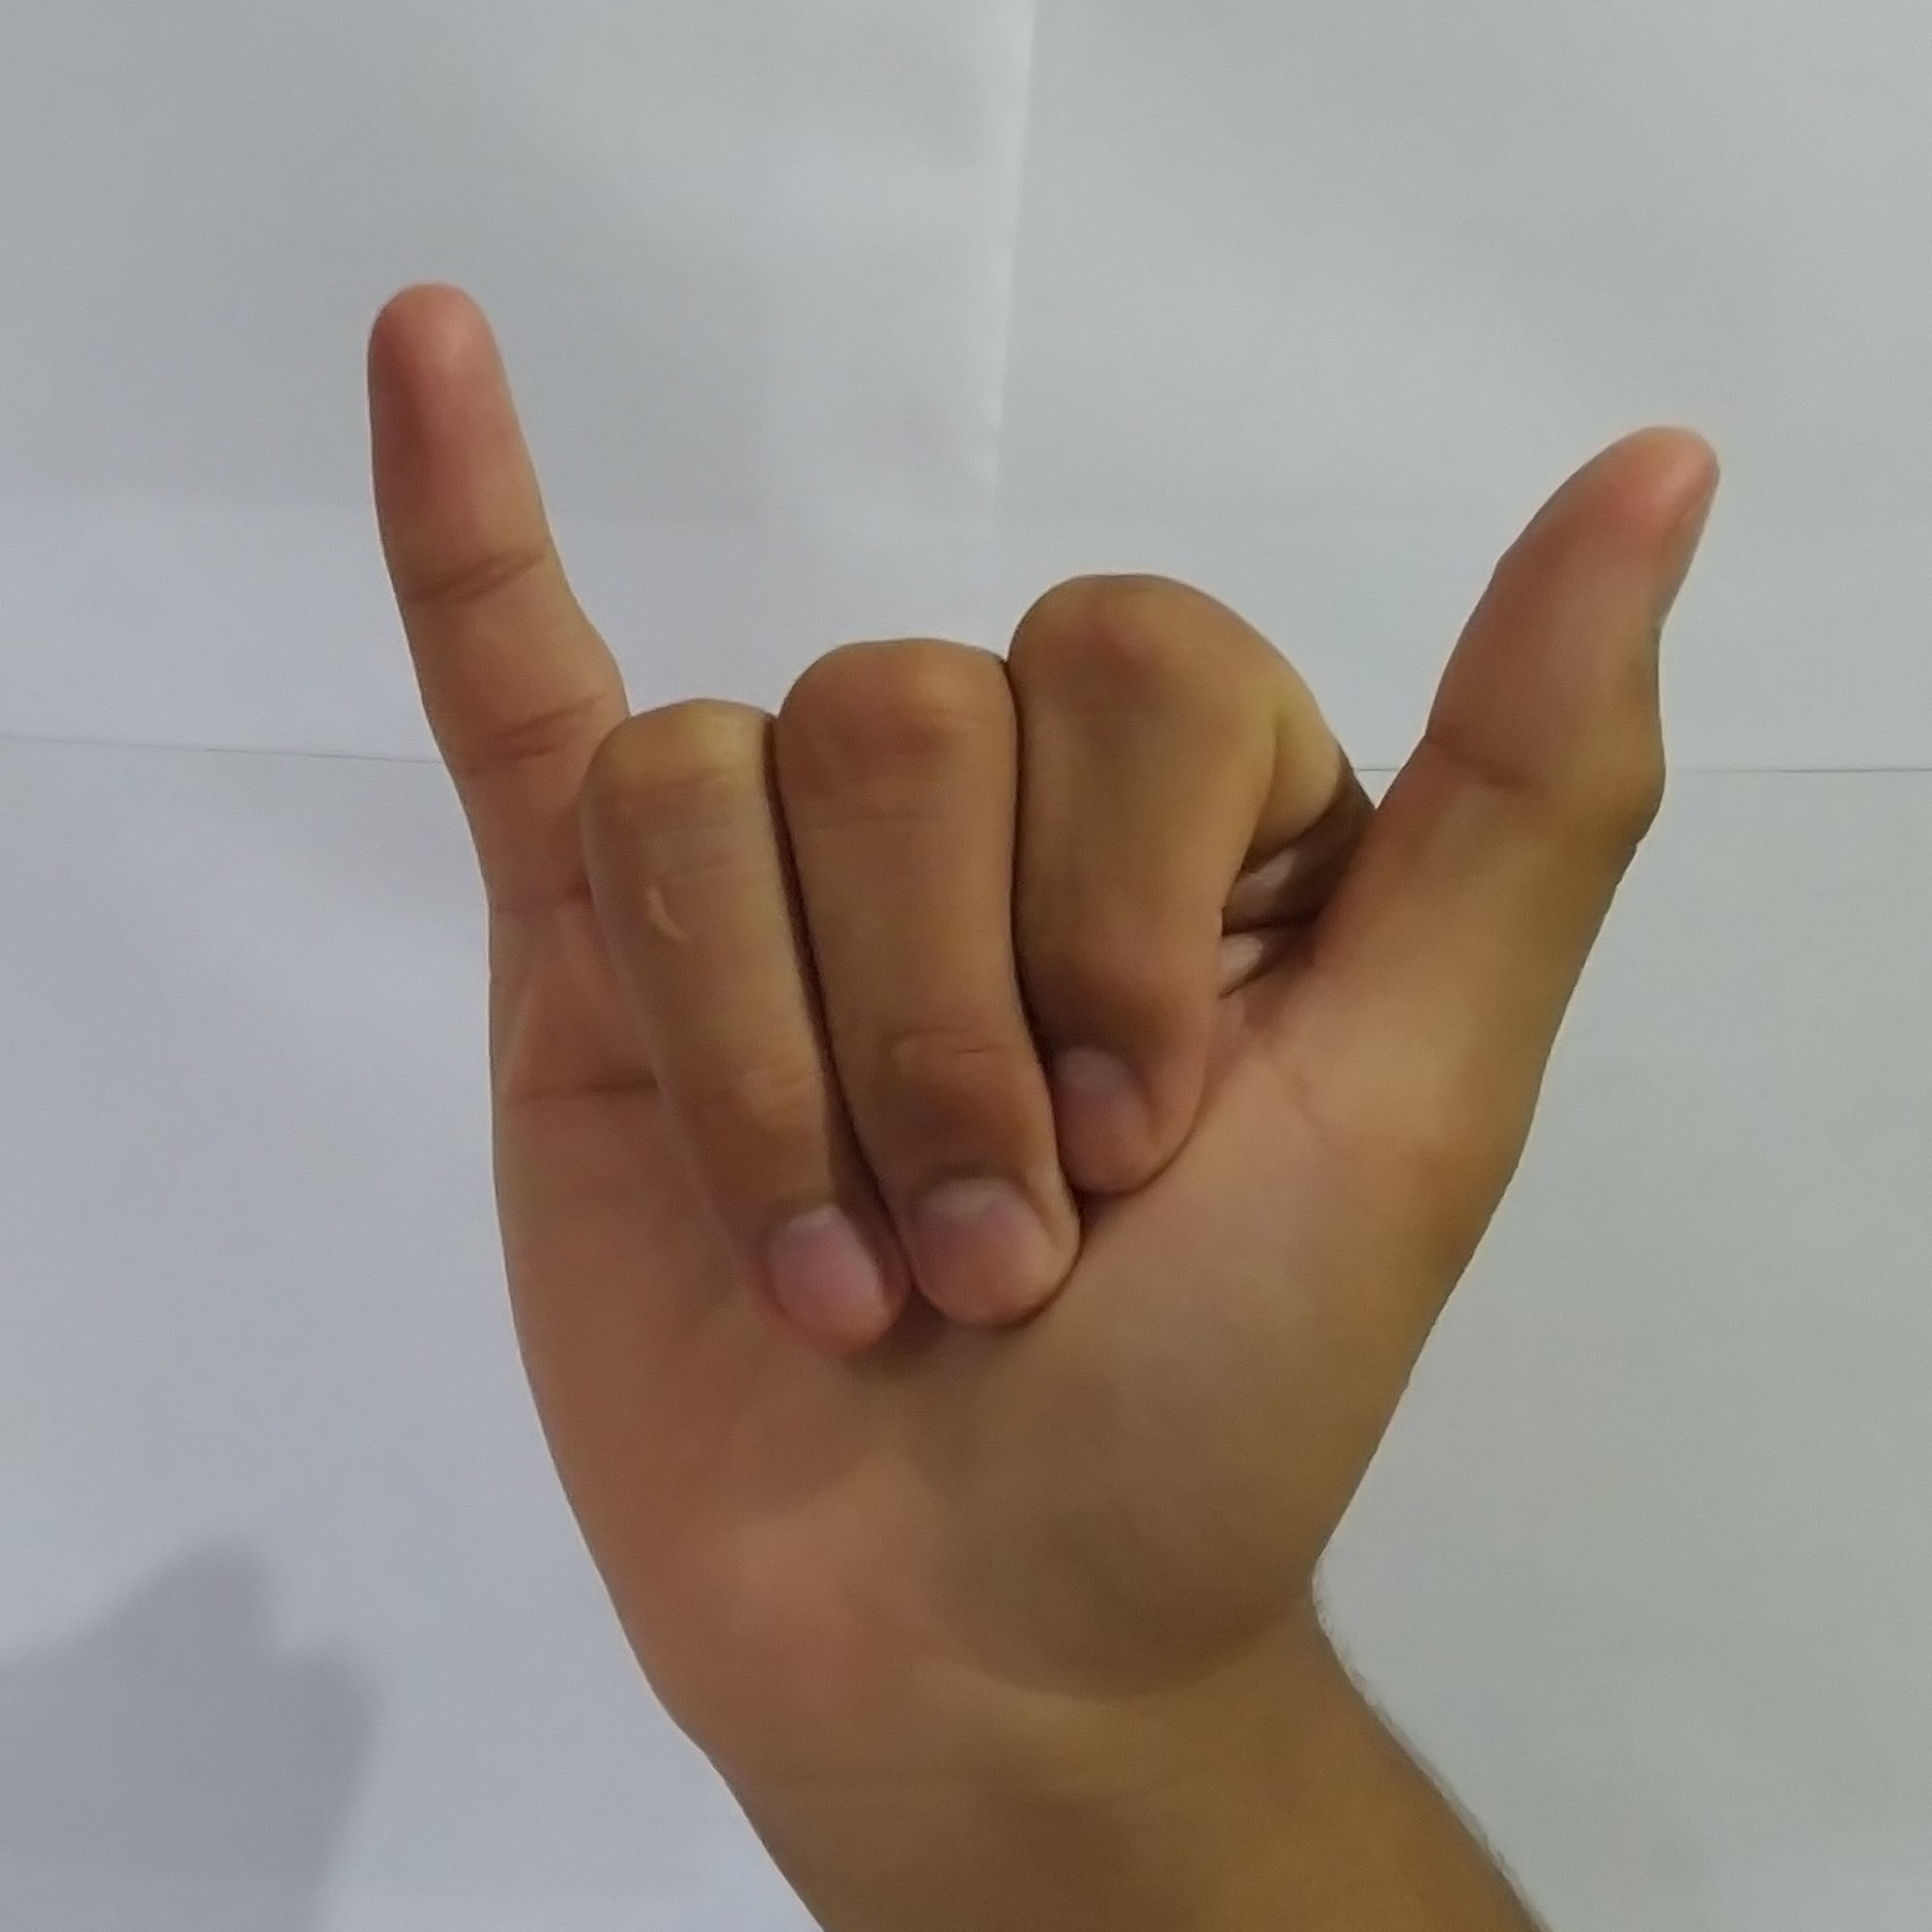Y: (340, 251, 1748, 1727)
